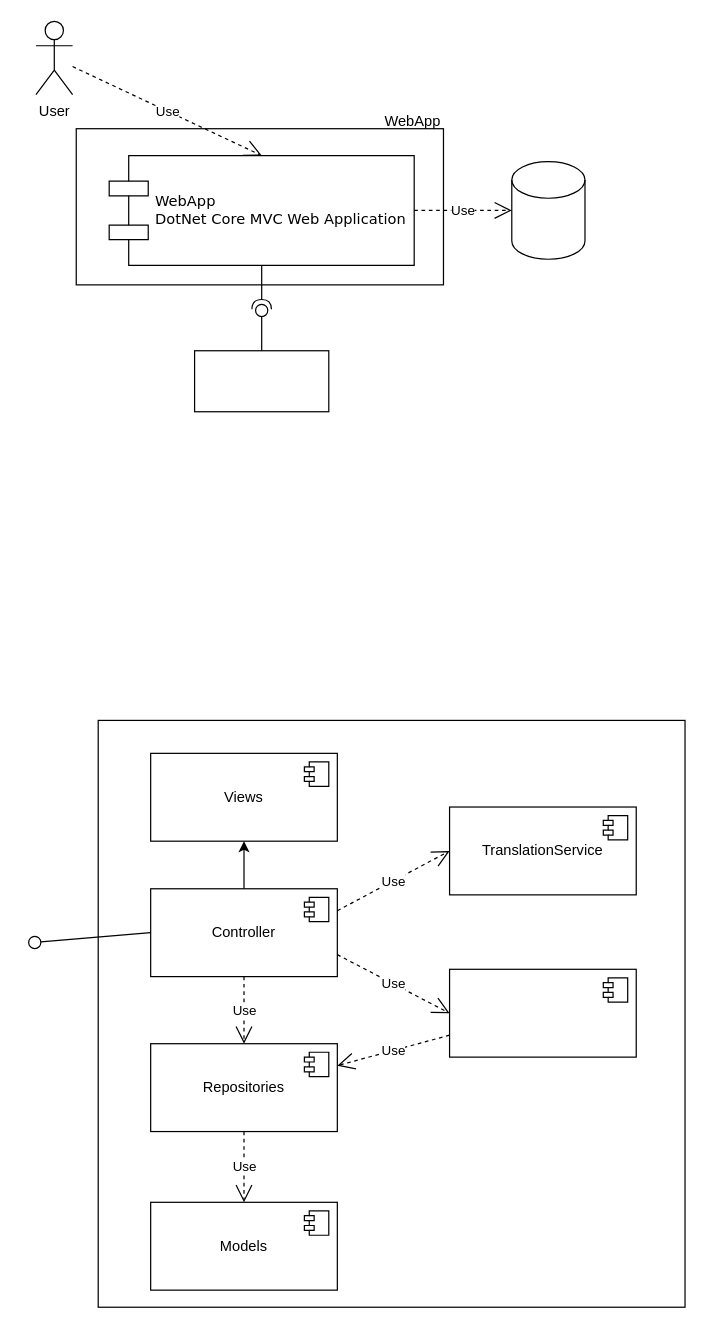
This 706x1329 diagram has some shape labels left out. The centre of each missing label's shape, as x and y in pixels:
"Datenbank" belongs at [548,209].
"DeepL" belongs at [261,381].
"ViewModel" belongs at [542,1012].
